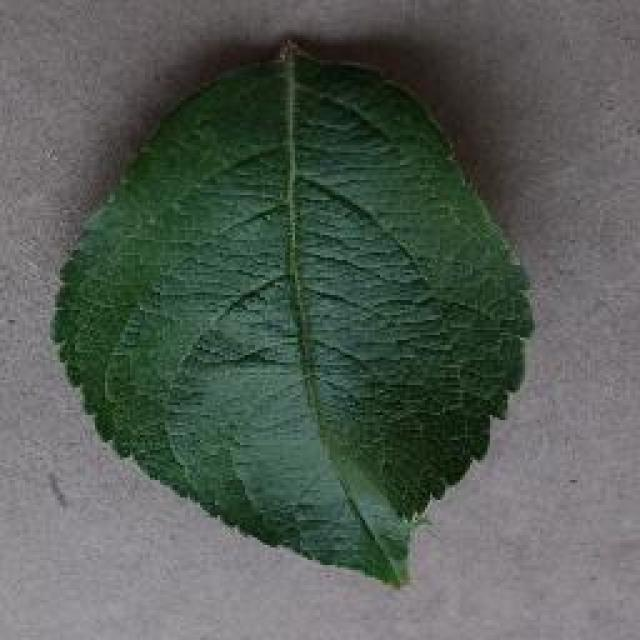Apple___healthy: (47, 34, 537, 593)
